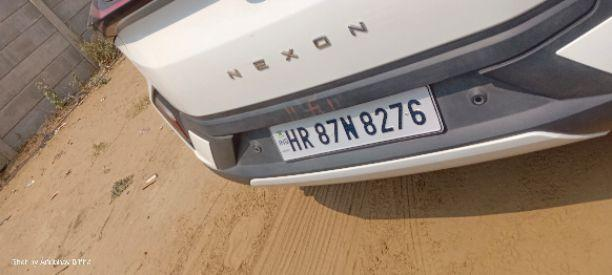license_plate: (108, 0, 611, 187), (267, 83, 445, 162)
